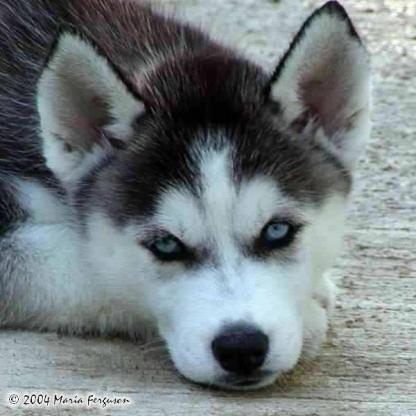Siberian_husky: (0, 1, 371, 396)
